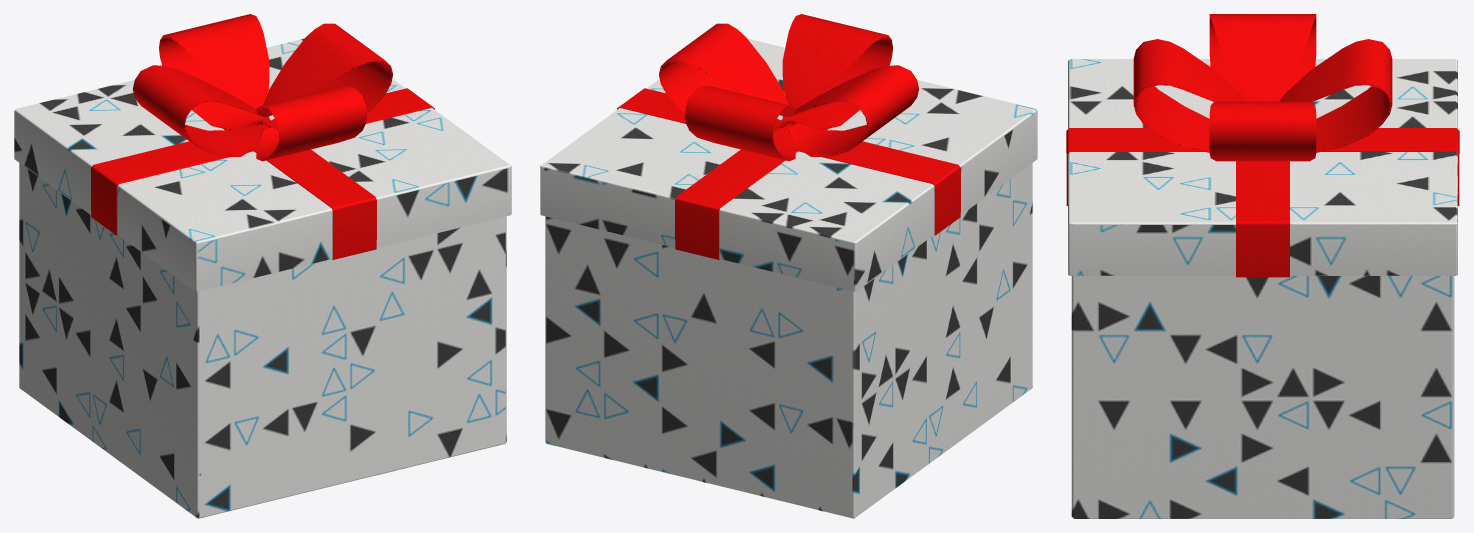
Rendered from gift1.glb.
The picture shows the model from 3 angles, left to right: view 1: azimuth 30°, elevation 25°; view 2: azimuth 150°, elevation 25°; view 3: azimuth 270°, elevation 25°; orthographic projection. The views are drawn at different scales.
Parts seen in each view (by area): view 1: SK_GiftBox (×3); view 2: SK_GiftBox (×3); view 3: SK_GiftBox (×3).
Boxes of the visible parts, left/top/right/bottom form: SK_GiftBox (×3): left=14, top=14, right=511, bottom=518; SK_GiftBox (×3): left=540, top=14, right=1037, bottom=518; SK_GiftBox (×3): left=1066, top=14, right=1459, bottom=518.
Bounding box in the file's own units: 1.88 × 2 × 1.88.
Materials: 3 (3 with a texture image).
